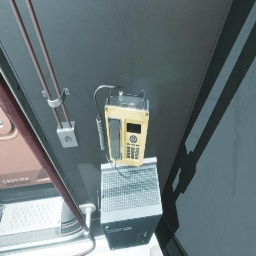EmergencyPhone ,: (94, 85, 149, 169)
